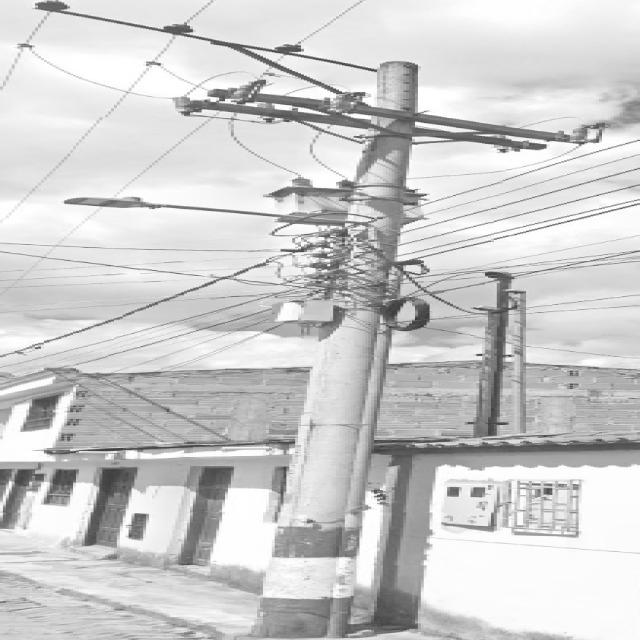Fachada: (3, 367, 307, 589), (380, 360, 473, 439), (529, 365, 637, 432)
Poste: (38, 0, 602, 637)
